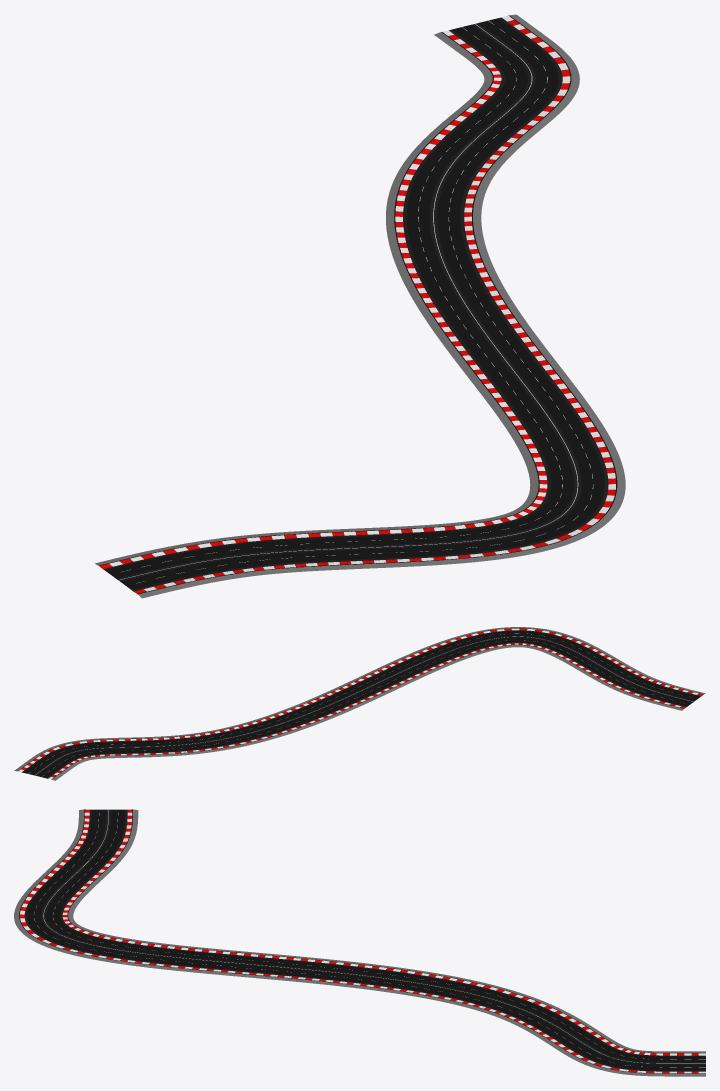
The model's file is S0.3c2h0-ass3.glb.
3 views of the same model, one above another, from view 1: azimuth 30°, elevation 25°; view 2: azimuth 150°, elevation 25°; view 3: azimuth 270°, elevation 25° (orthographic). The views are drawn at different scales.
Parts seen in each view (by area): view 1: Grid; view 2: Grid; view 3: Grid.
Boxes of the visible parts, <box> form: Grid: <box>95,14,625,598</box>; Grid: <box>14,627,705,780</box>; Grid: <box>14,809,705,1076</box>.
Bounding box in the file's own units: 266 × 0.31 × 292.
